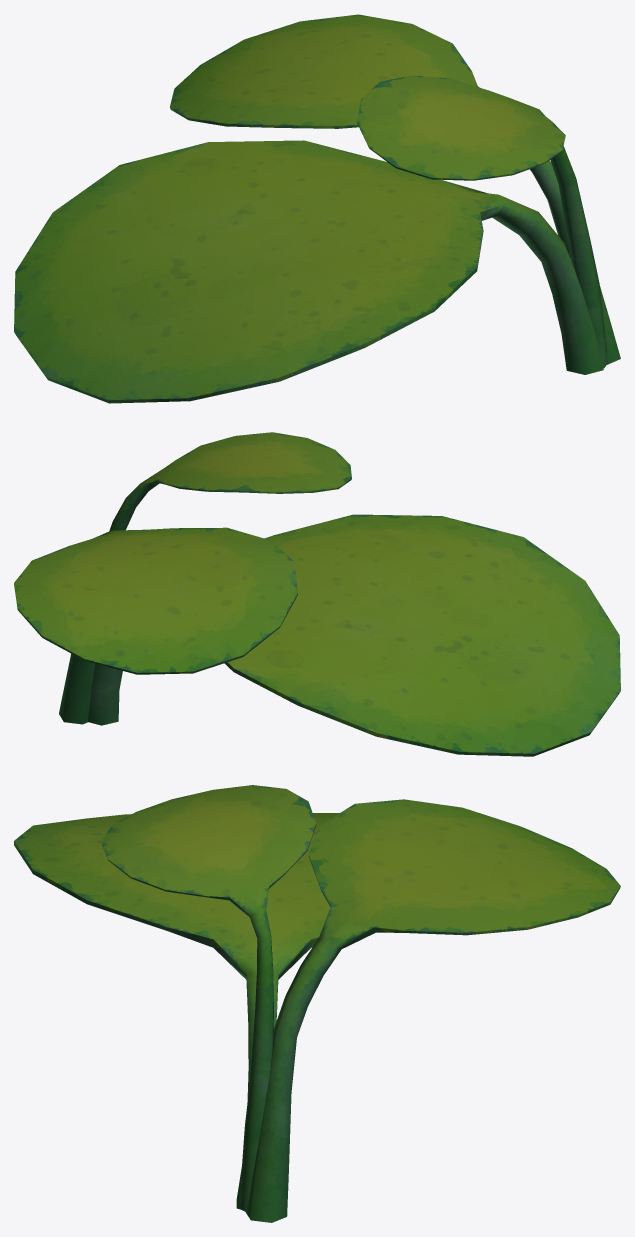
File: plants1.fbx
3 views of the same model, one above another, from view 1: azimuth 30°, elevation 25°; view 2: azimuth 150°, elevation 25°; view 3: azimuth 270°, elevation 25° (orthographic). The views are drawn at different scales.
Parts seen in each view (by area): view 1: Cube.002; view 2: Cube.002; view 3: Cube.002.
Boxes of the visible parts, <box> form: Cube.002: <box>14,14,620,403</box>; Cube.002: <box>14,432,620,756</box>; Cube.002: <box>14,785,620,1222</box>.
Bounding box in the file's own units: 383 × 197 × 346.
Materials: 1 (1 with a texture image).
